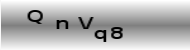8: (110, 26, 123, 40)
Q: (26, 9, 44, 24)
V: (77, 16, 94, 29)
n: (54, 18, 69, 29)
q: (94, 28, 107, 43)
